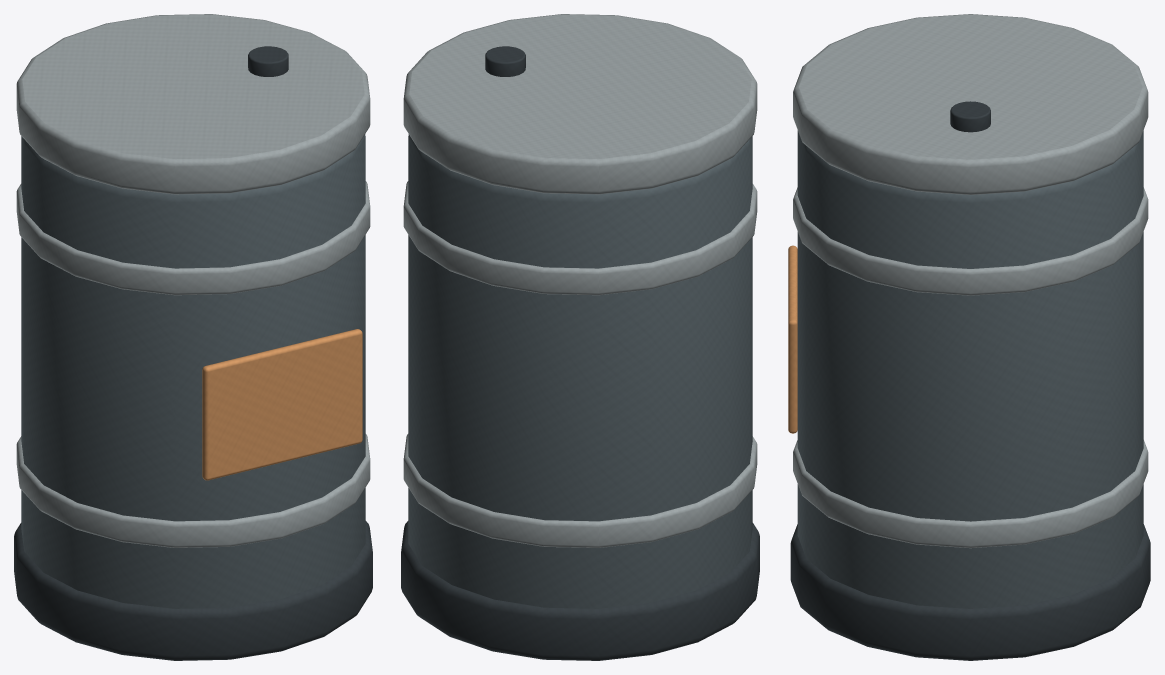
Rendered from StorageDrum.fbx.
The picture shows the model from 3 angles, left to right: view 1: azimuth 30°, elevation 25°; view 2: azimuth 150°, elevation 25°; view 3: azimuth 270°, elevation 25°; orthographic projection.
Parts seen in each view (by area): view 1: StorageDrum_Mesh; view 2: StorageDrum_Mesh; view 3: StorageDrum_Mesh.
Part boxes in pixels (bbox=[...]): StorageDrum_Mesh: bbox=[14, 14, 372, 660]; StorageDrum_Mesh: bbox=[401, 14, 759, 660]; StorageDrum_Mesh: bbox=[788, 14, 1150, 660].
Bounding box in the file's own units: 75 × 118 × 75.5.
4 materials, 4 textured.
